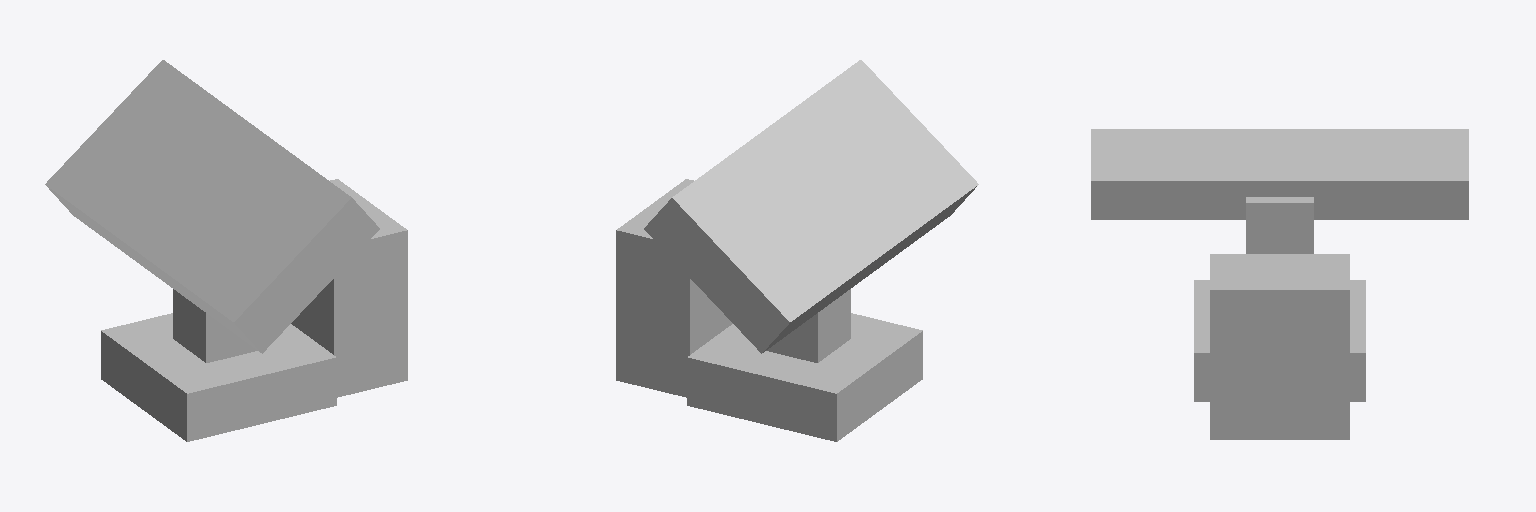
File: solar.obj
3 views of the same model, side by side, from view 1: azimuth 30°, elevation 25°; view 2: azimuth 150°, elevation 25°; view 3: azimuth 270°, elevation 25° (orthographic).
Visible parts, largest first — view 1: Cube.024; view 2: Cube.024; view 3: Cube.024.
Part boxes in pixels (x1,y1,x2,y2): Cube.024: (45,60,407,441); Cube.024: (616,60,978,441); Cube.024: (1091,129,1468,439).
Size of the model in its own units: 3.36 by 3.5 by 4.71.